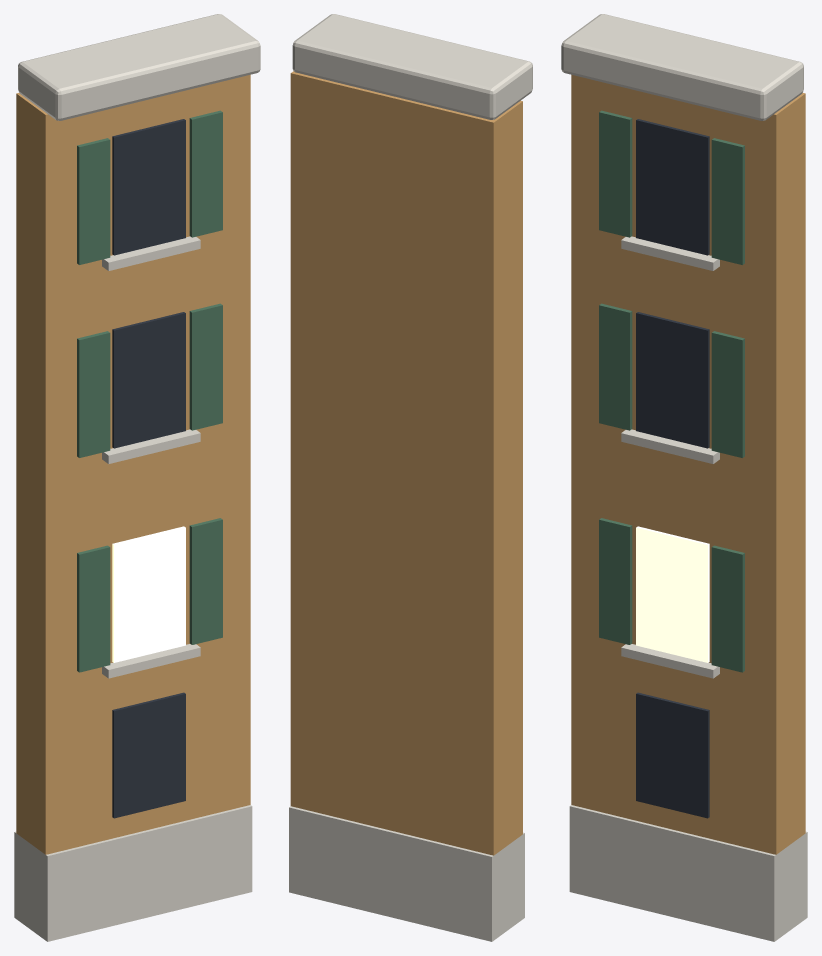
The model's file is FacadeOchre.glb.
3 views of the same model, side by side, from view 1: azimuth 30°, elevation 25°; view 2: azimuth 150°, elevation 25°; view 3: azimuth 330°, elevation 25° (orthographic).
Parts seen in each view (by area): view 1: FacadeOchre; view 2: FacadeOchre; view 3: FacadeOchre.
Boxes of the visible parts, x1,y1,x2,y2 form: FacadeOchre: [14, 14, 260, 941]; FacadeOchre: [289, 14, 532, 941]; FacadeOchre: [561, 14, 807, 941].
Size of the model in its own units: 2 by 8 by 0.73.
